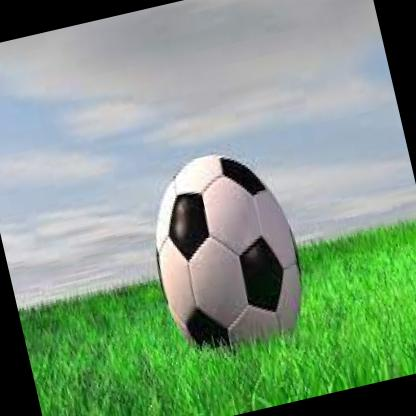ball: (135, 140, 316, 366)
